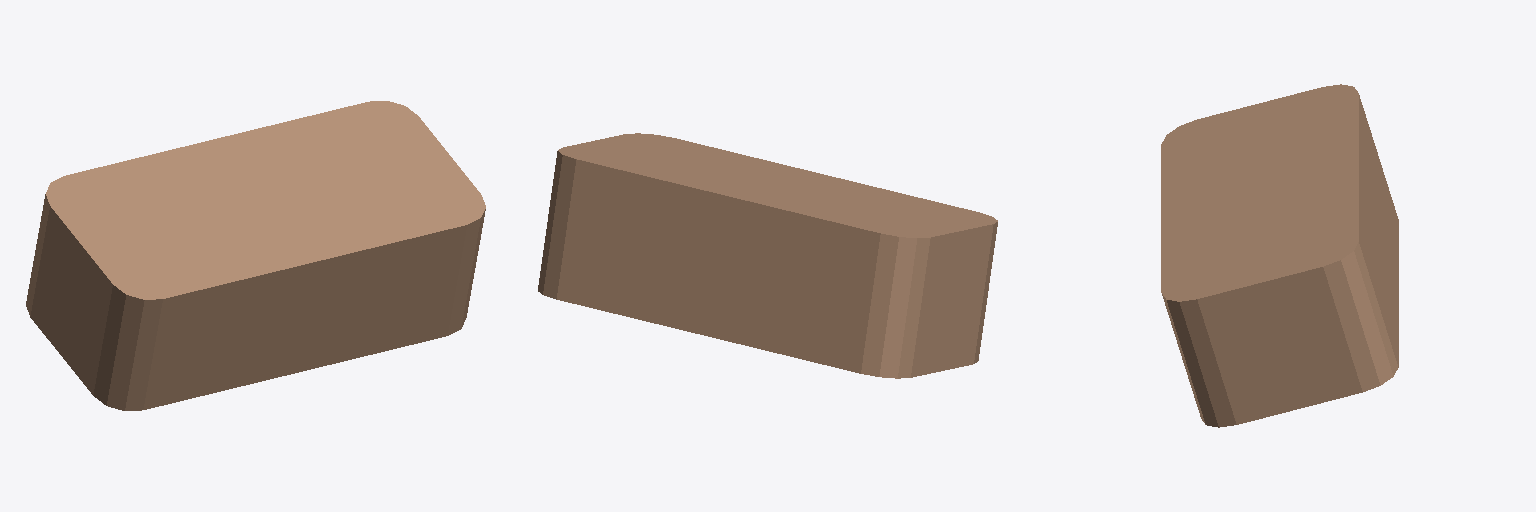
3 renders of one model, left to right at view 1: azimuth 30°, elevation 25°; view 2: azimuth 150°, elevation 25°; view 3: azimuth 270°, elevation 25°, orthographic.
Visible parts, largest first — view 1: SciFi_Prop_25_27; view 2: SciFi_Prop_25_27; view 3: SciFi_Prop_25_27.
Part boxes in pixels (left/top/right/bottom): SciFi_Prop_25_27: left=26, top=101, right=485, bottom=410; SciFi_Prop_25_27: left=538, top=133, right=997, bottom=378; SciFi_Prop_25_27: left=1161, top=84, right=1398, bottom=427.
Bounding box in the file's own units: 0.4461 × 0.2047 × 0.2485.